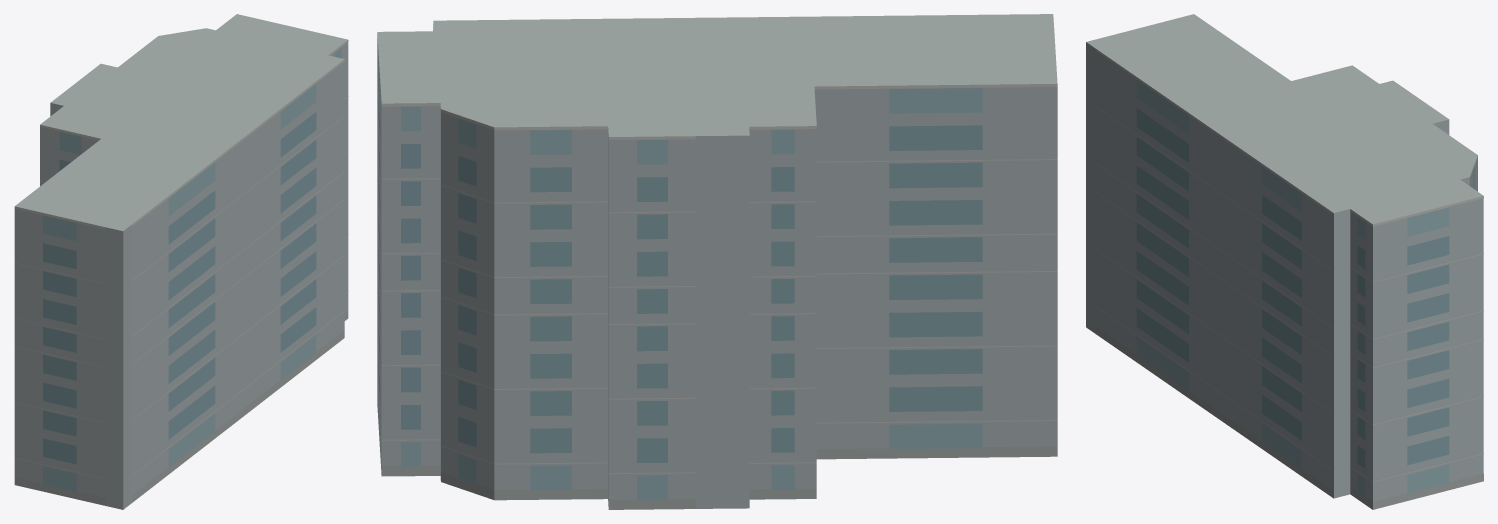
Rendered from residential-ed63b408-07a9-4fb0-9d6b-d3987f4fb882.glb.
3 views of the same model, side by side, from view 1: azimuth 30°, elevation 25°; view 2: azimuth 150°, elevation 25°; view 3: azimuth 270°, elevation 25° (orthographic). The views are drawn at different scales.
Parts seen in each view (by area): view 1: residential-ed63b408-07a9-4fb0-9d6b-d3987f4fb882.tmp; view 2: residential-ed63b408-07a9-4fb0-9d6b-d3987f4fb882.tmp; view 3: residential-ed63b408-07a9-4fb0-9d6b-d3987f4fb882.tmp.
Boxes of the visible parts, <box> form: residential-ed63b408-07a9-4fb0-9d6b-d3987f4fb882.tmp: <box>14,14,348,509</box>; residential-ed63b408-07a9-4fb0-9d6b-d3987f4fb882.tmp: <box>377,14,1057,509</box>; residential-ed63b408-07a9-4fb0-9d6b-d3987f4fb882.tmp: <box>1086,14,1483,509</box>.
Bounding box in the file's own units: 47.46 × 30 × 37.89.
